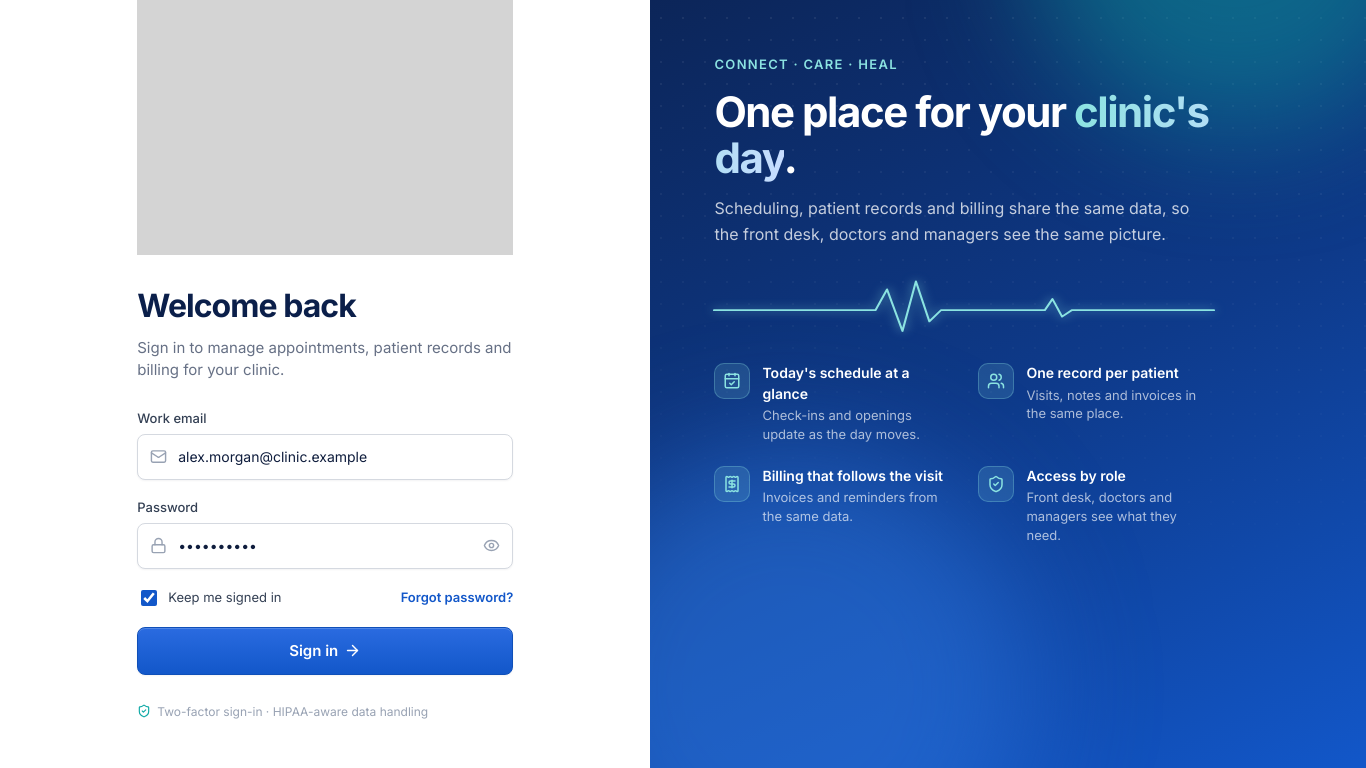
Test case: LoginForm › signs in and shows progress
(page scrolled)
Click the button "Sign in".
click(325, 651)  # box left=137, top=627, right=513, bottom=675
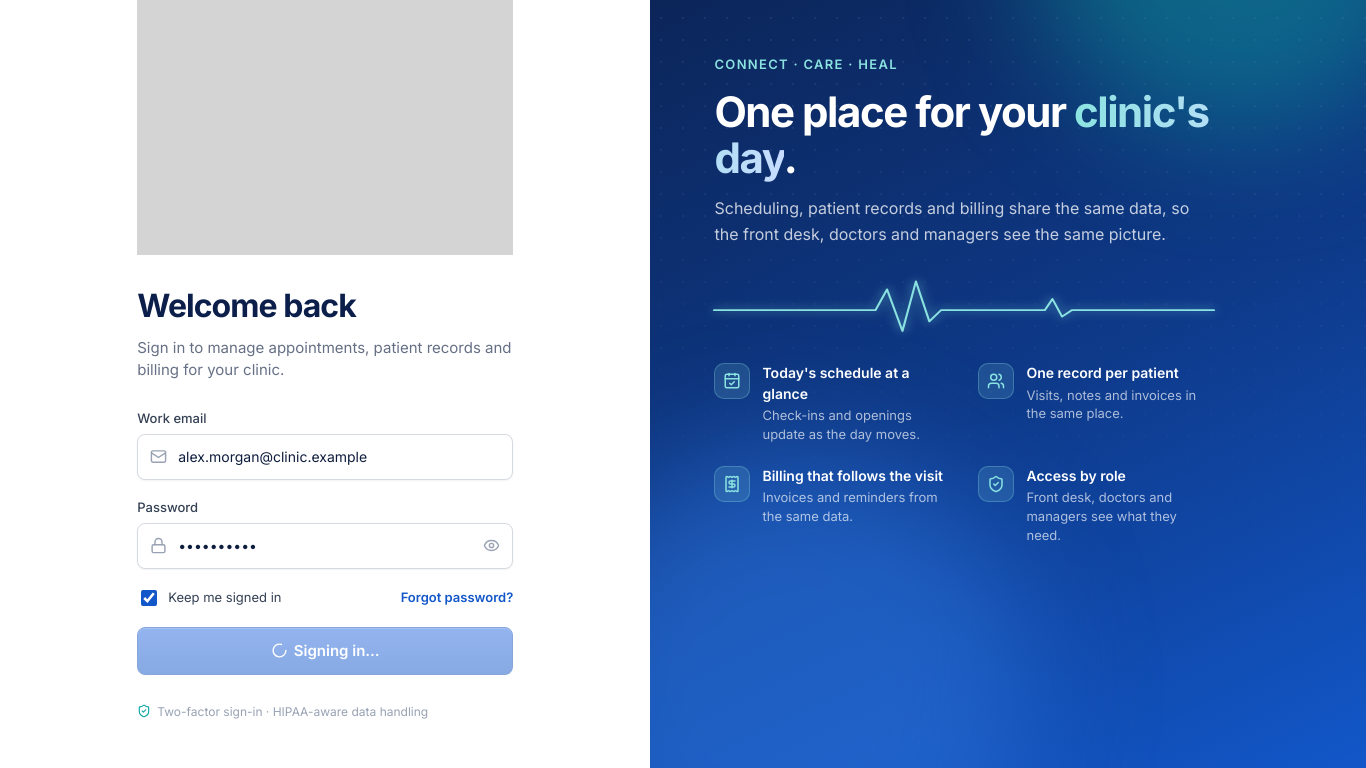
Check: the button "Signing in…" is disabled, box left=137, top=627, right=513, bottom=675
